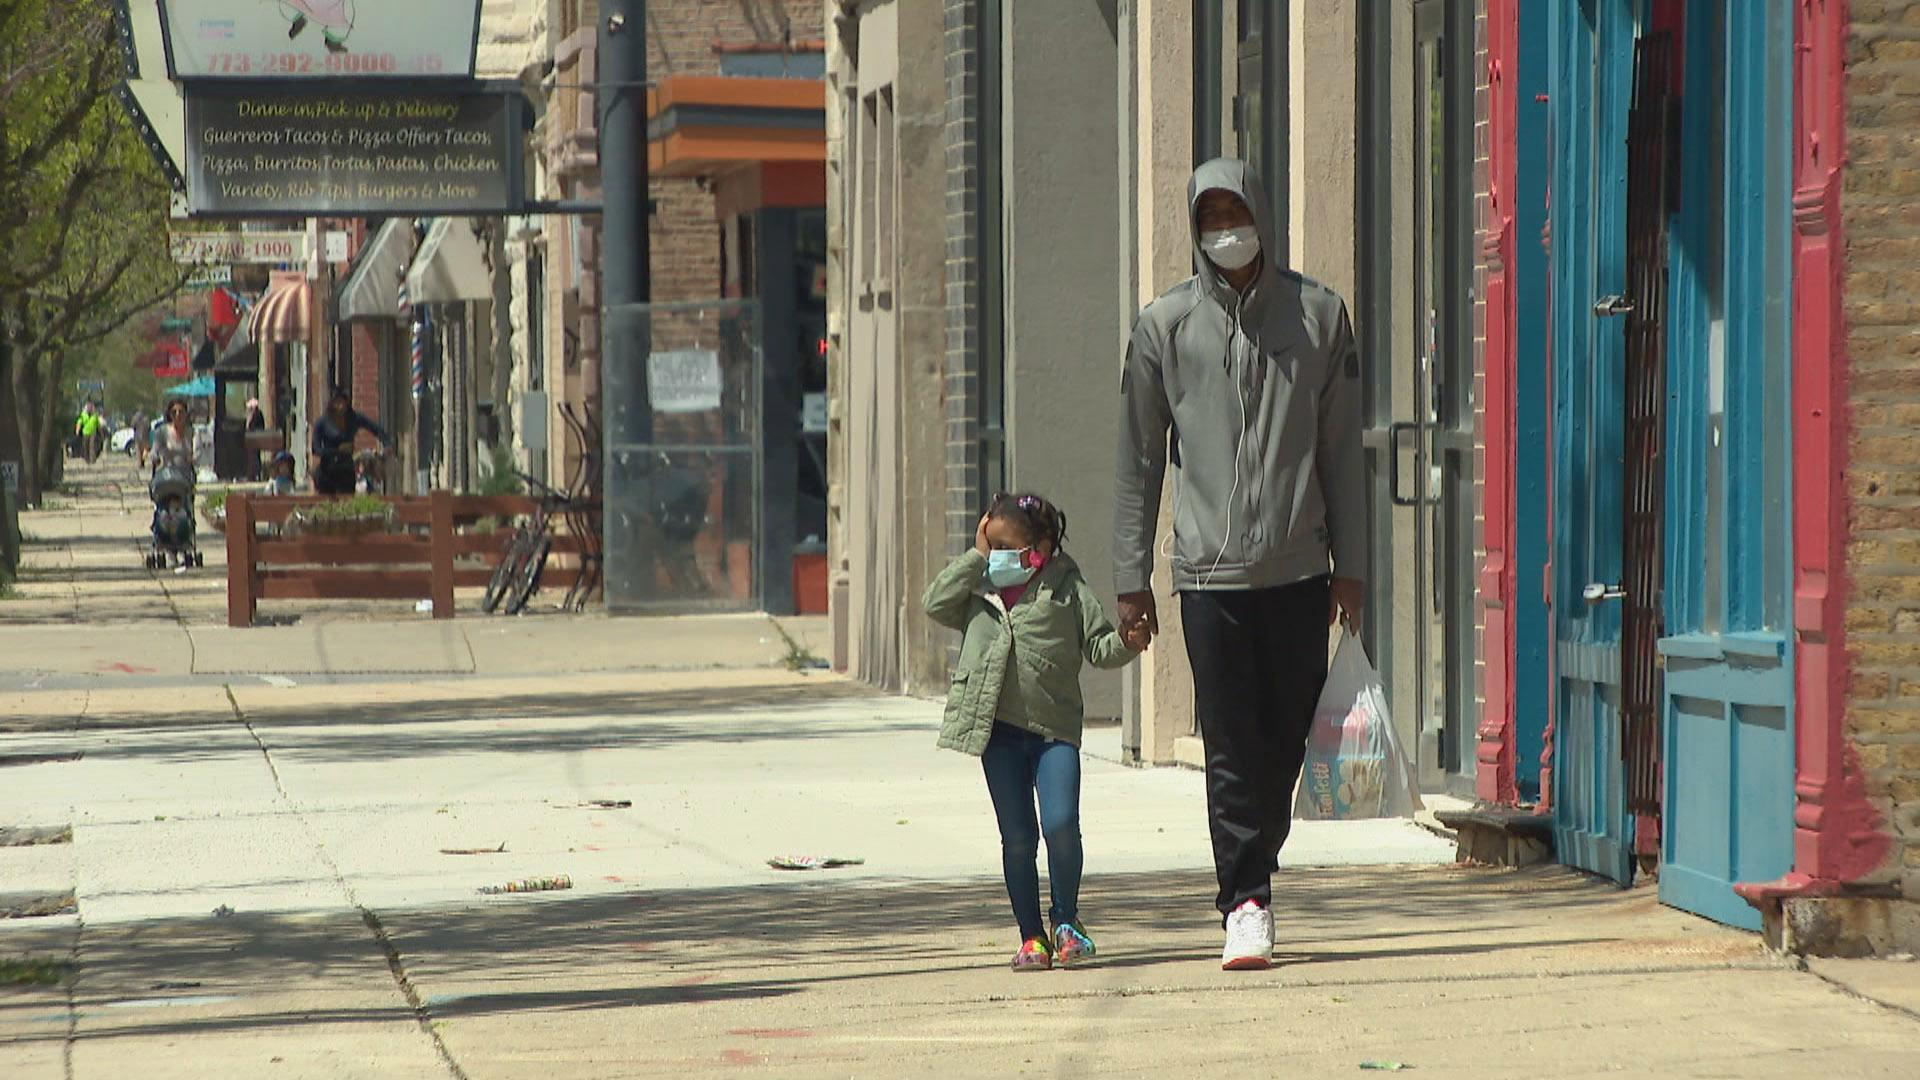person: (1104, 149, 1421, 983), (906, 474, 1143, 980), (135, 391, 200, 482)
